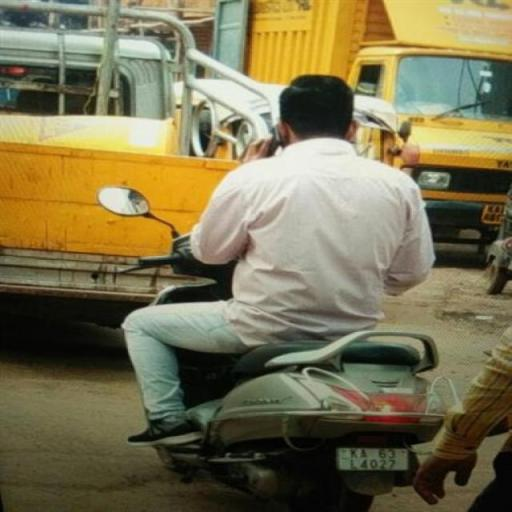using mobile: (250, 118, 298, 168)
